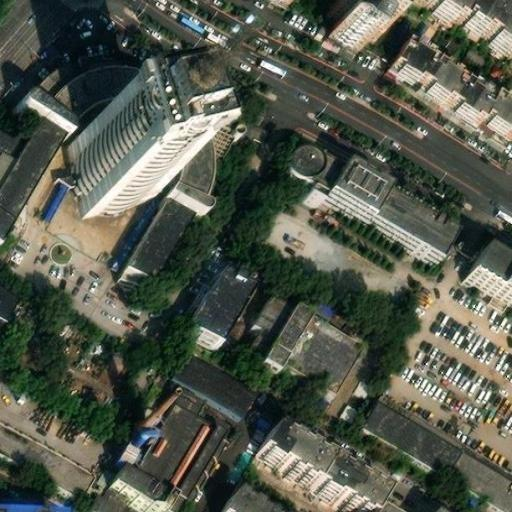building: (26, 66, 211, 207), (291, 127, 465, 248), (121, 342, 254, 494), (384, 39, 512, 138), (252, 281, 368, 390), (248, 427, 377, 512), (0, 104, 68, 224), (67, 116, 157, 205), (365, 393, 462, 469), (128, 187, 197, 274), (190, 248, 257, 328), (444, 436, 512, 508), (34, 46, 131, 95), (111, 455, 190, 512), (433, 0, 512, 50), (463, 235, 512, 298), (216, 483, 288, 512), (0, 489, 72, 512), (94, 471, 129, 509), (333, 5, 369, 37)
